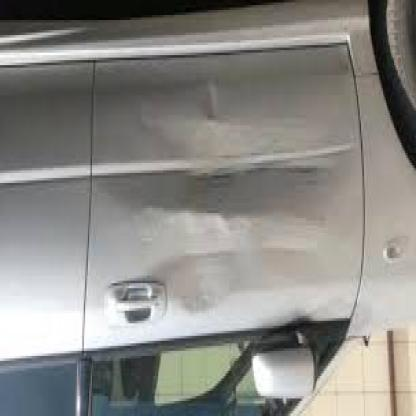dent: (141, 180, 301, 249), (188, 72, 221, 134)
